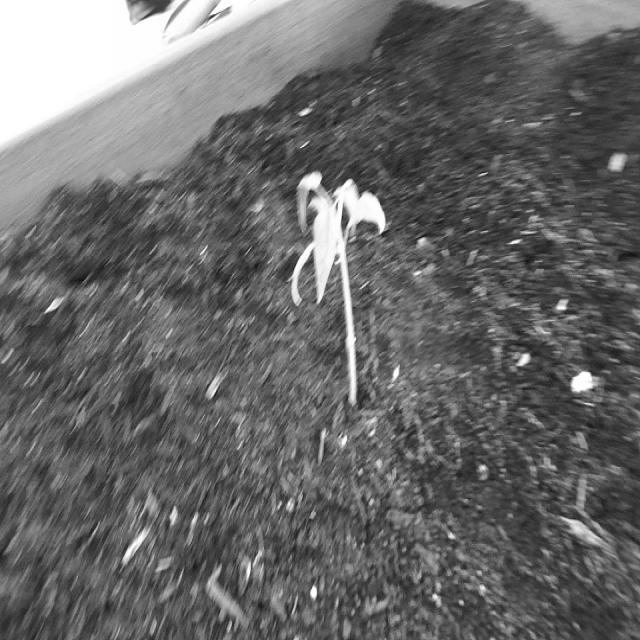Healthy: (286, 158, 398, 430)
